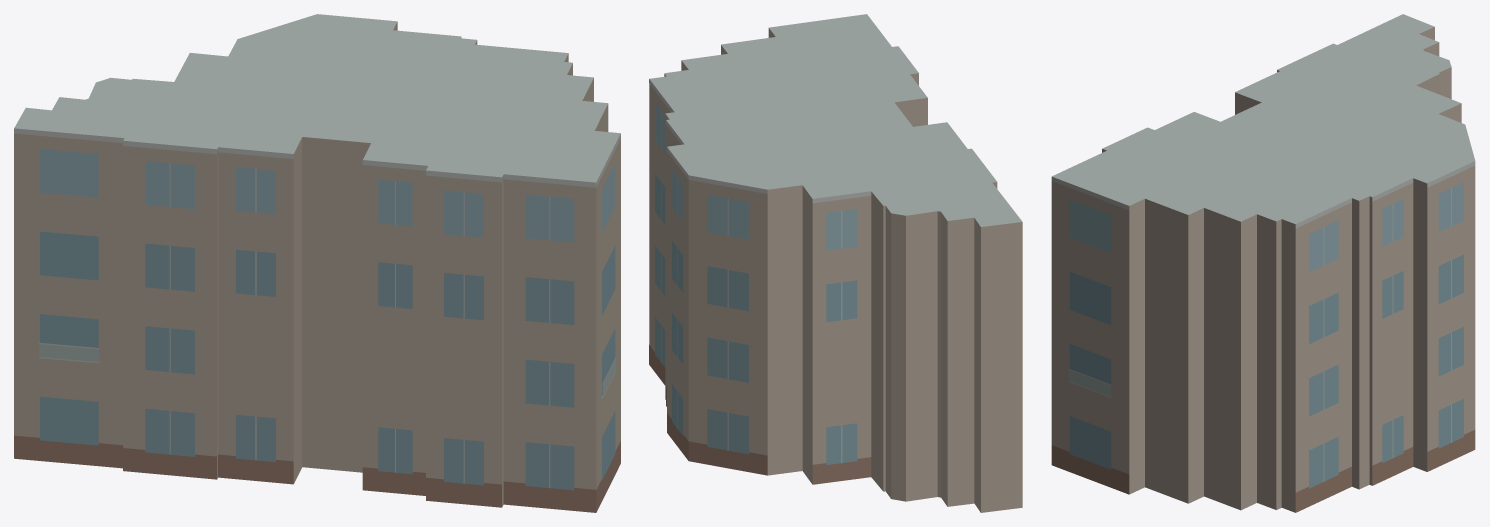
Rendered from survey-upis-32708771.glb.
3 renders of one model, left to right at view 1: azimuth 30°, elevation 25°; view 2: azimuth 150°, elevation 25°; view 3: azimuth 270°, elevation 25°, orthographic. The views are drawn at different scales.
Visible parts, largest first — view 1: survey-upis-32708771.tmp; view 2: survey-upis-32708771.tmp; view 3: survey-upis-32708771.tmp.
Part boxes in pixels (x1,y1,x2,y2): survey-upis-32708771.tmp: (14, 14, 620, 512); survey-upis-32708771.tmp: (649, 14, 1022, 512); survey-upis-32708771.tmp: (1051, 14, 1475, 512).
Bounding box in the file's own units: 24.53 × 15.7 × 20.9.
